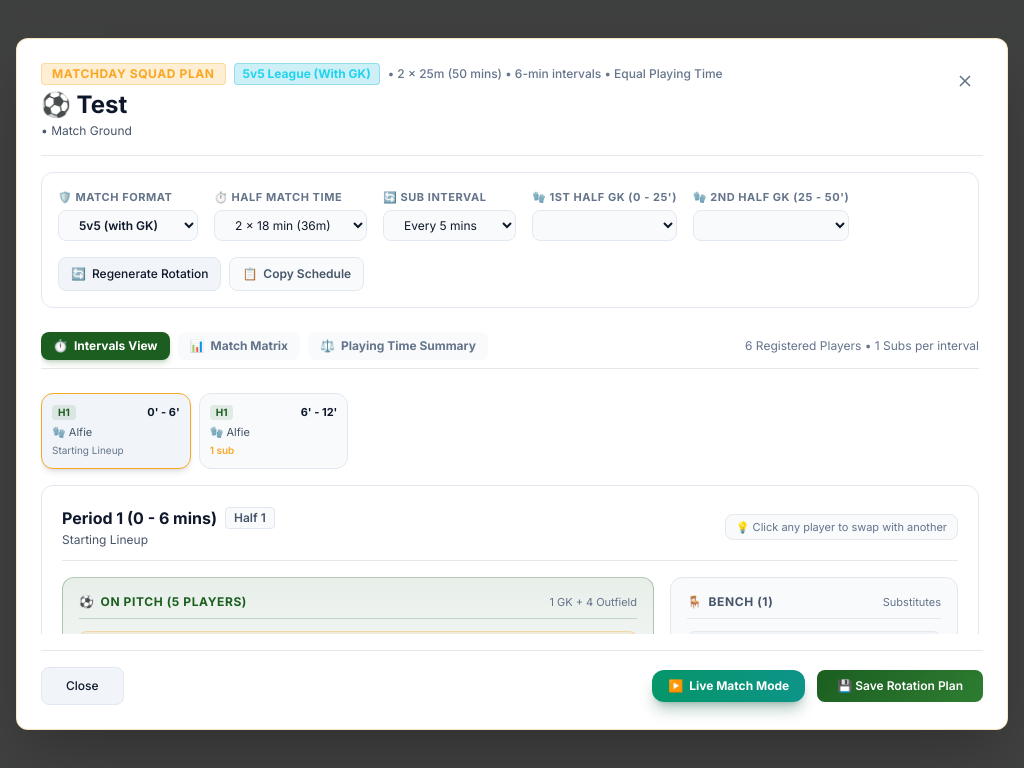
Test case: MatchSquadModal › switches between view tabs correctly
This screenshot has width=1024, height=768.
Click the button "📊 Match Matrix" at coordinates (239, 346), box x1=178 y1=332 x2=300 y2=360
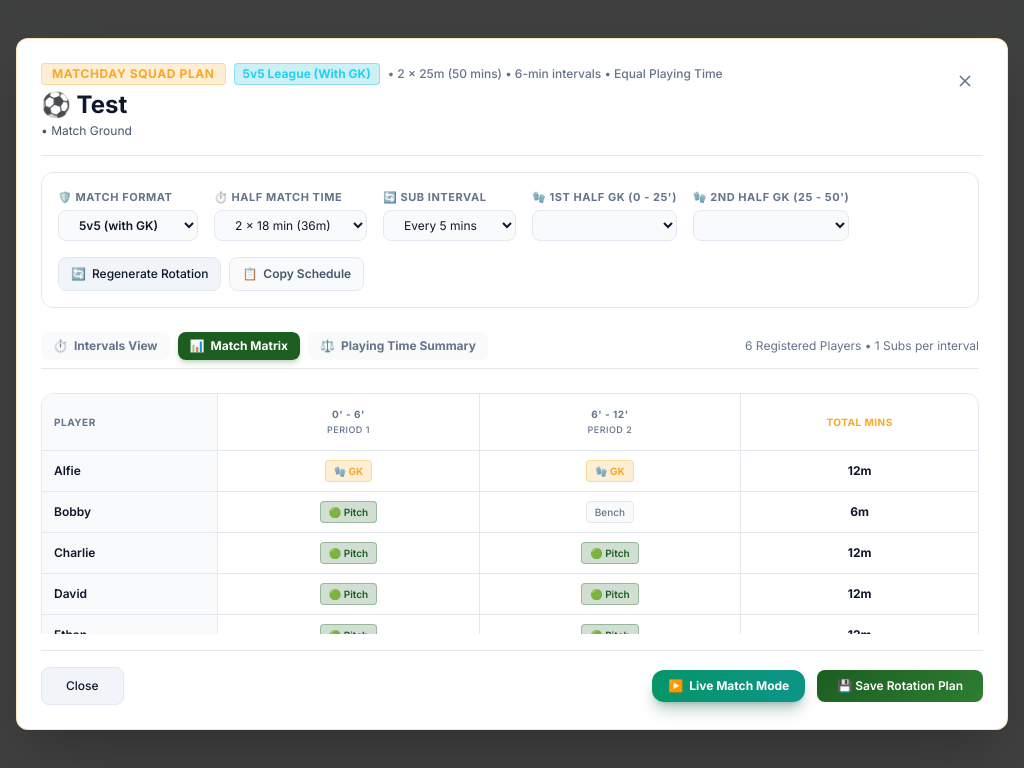
Now the text "Total Mins" is shown, box x1=741 y1=394 x2=978 y2=450
Now the table is shown, box x1=42 y1=394 x2=978 y2=634
Click the button "⚖️ Playing Time Summary" at coordinates (398, 346), box x1=308 y1=332 x2=488 y2=360
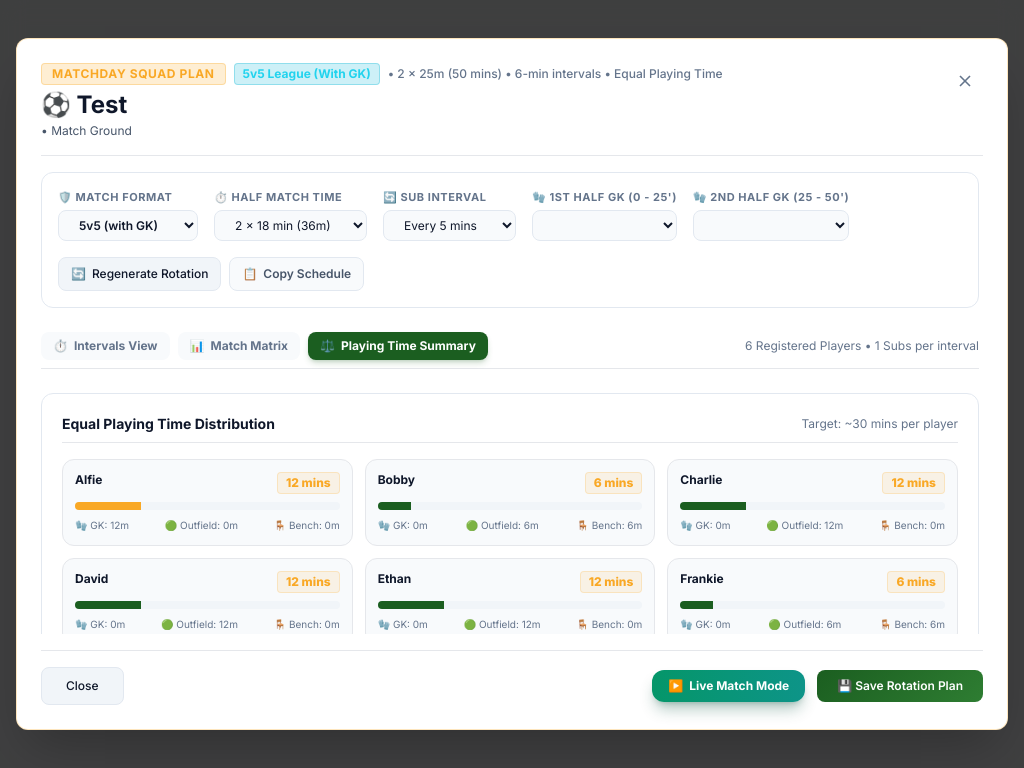
Now the text "Equal Playing Time Distribution" is shown, box x1=62 y1=414 x2=275 y2=434
